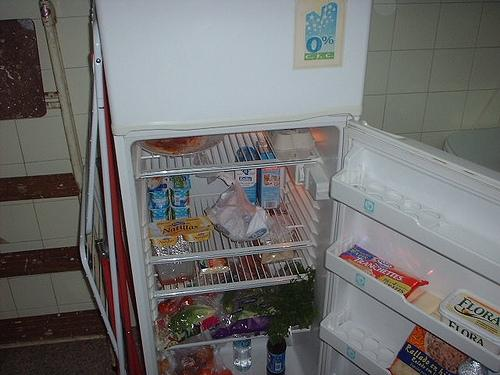lettuce: (168, 306, 217, 332), (242, 310, 254, 318)
tomato: (158, 298, 179, 316), (178, 296, 196, 313)
